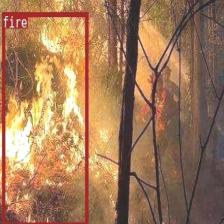fire: (2, 11, 87, 224)
